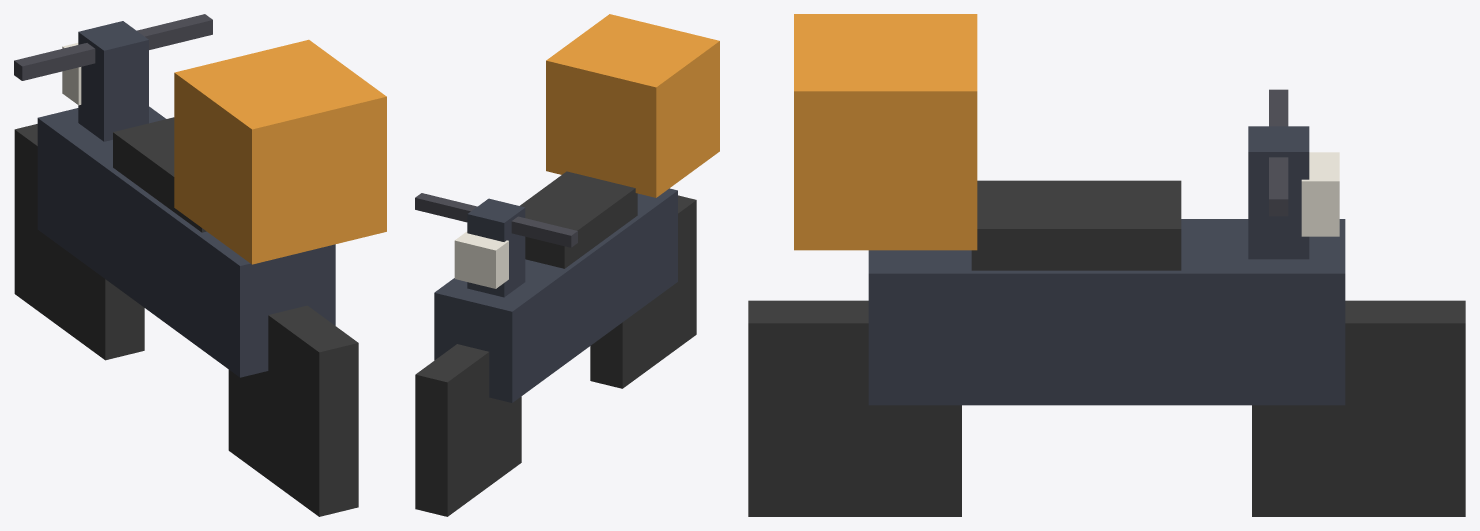
File: SM_Moto_Reparto.fbx
3 renders of one model, left to right at view 1: azimuth 30°, elevation 25°; view 2: azimuth 150°, elevation 25°; view 3: azimuth 270°, elevation 25°, orthographic. The views are drawn at different scales.
Parts seen in each view (by area): view 1: SM_Moto_Reparto; view 2: SM_Moto_Reparto; view 3: SM_Moto_Reparto.
Part boxes in pixels (bbox=[...]): SM_Moto_Reparto: bbox=[14, 14, 386, 516]; SM_Moto_Reparto: bbox=[415, 14, 719, 516]; SM_Moto_Reparto: bbox=[748, 14, 1465, 516].
Size of the model in its own units: 0.68 by 1.31 by 1.88.
